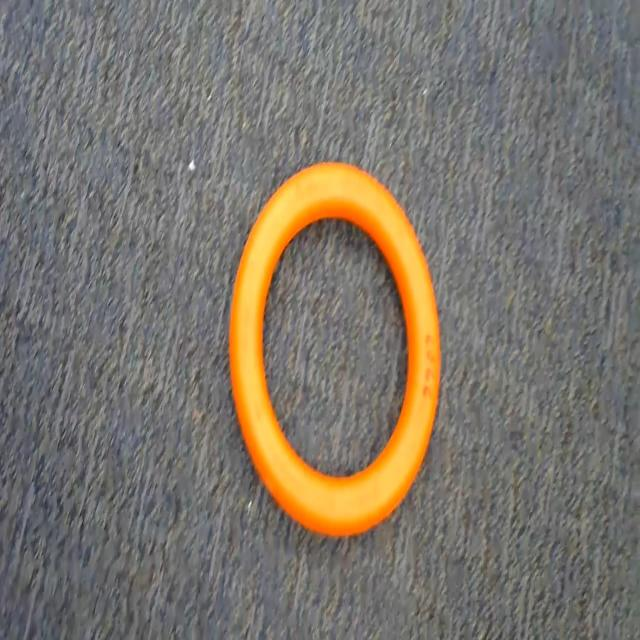note: (200, 149, 472, 558)
